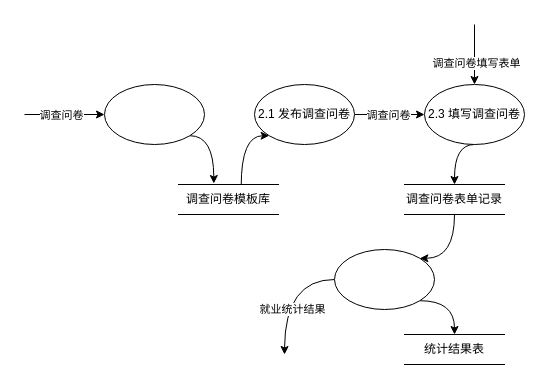
Image size: 542x382. Some labels were removed from this diagram. The shapes that lost their labels are listed below. From the top down, each one's centre as x and y in pixels, then its label:
At (154,114): "2.1 设计调查问卷".
At (384,279): "2.4 统计调查结果".
